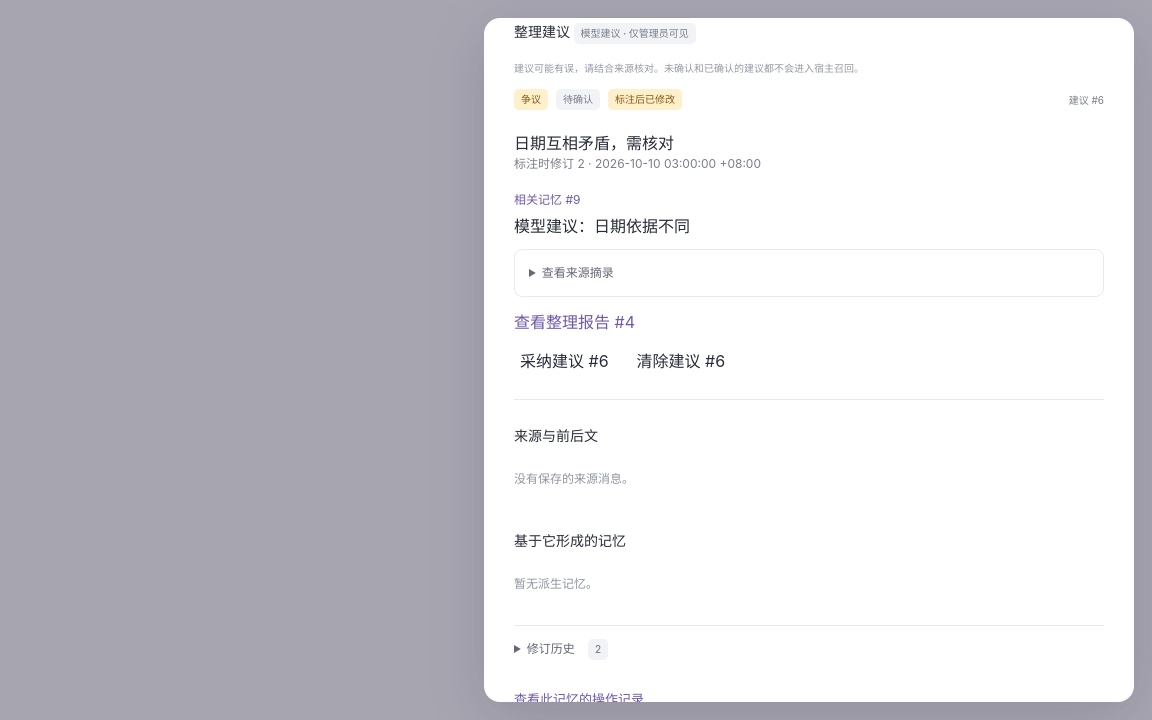
Test: 记忆建议采纳仅确认元数据，带当前修订及 CSRF；可清除且不改正文
The width and height of the screenshot is (1152, 720).
(page scrolled)
Check: the text "标注后已修改" is shown, box 608,89 -> 682,110
Click the button "采纳建议 #6": (564, 360) 514,347 -> 615,373
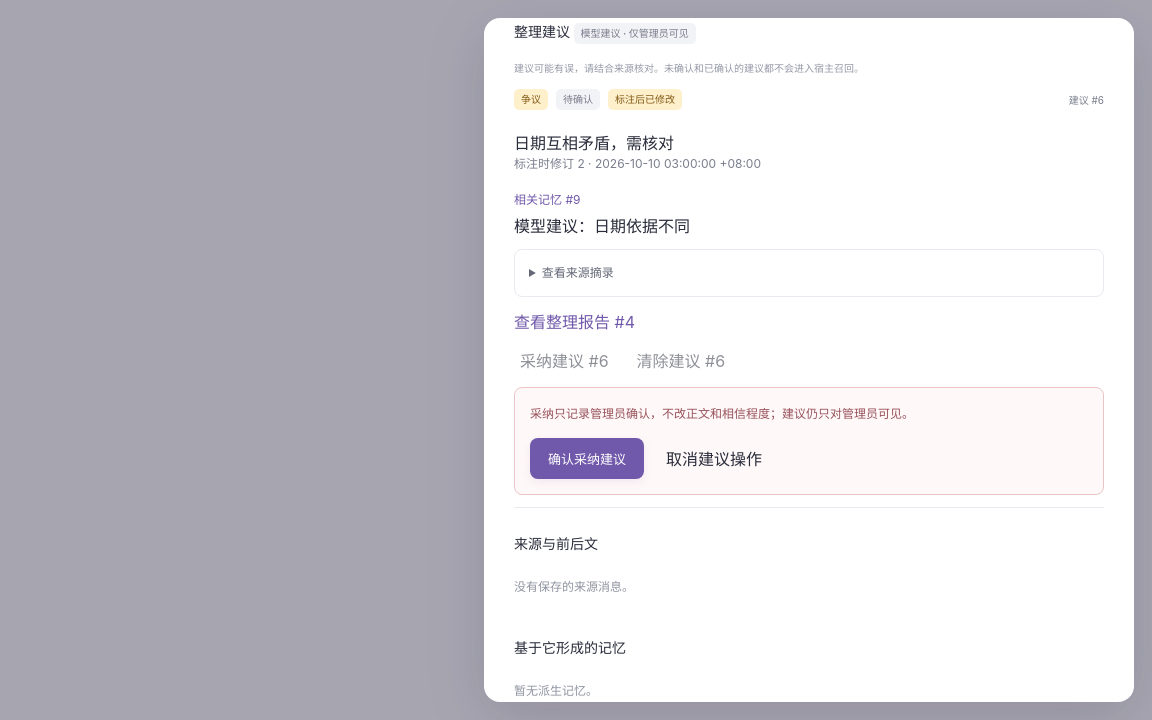
Check: the text "采纳只记录管理员确认，不改正文和相信程度；建议仍只对管理员可见。" is shown, box 530,406 -> 914,421
Click the button "确认采纳建议": (587, 458) 530,438 -> 644,479
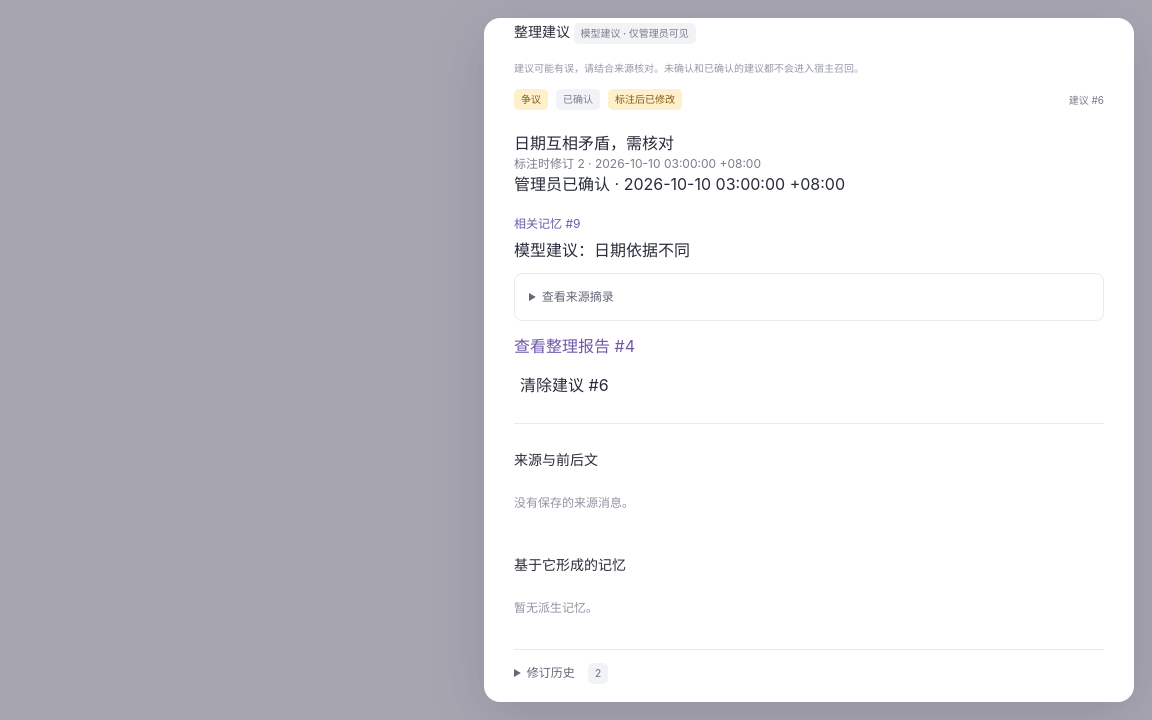
Check: the text "已确认" is shown, box 556,89 -> 600,110
Click the button "清除建议 #6": (564, 384) 514,371 -> 615,397
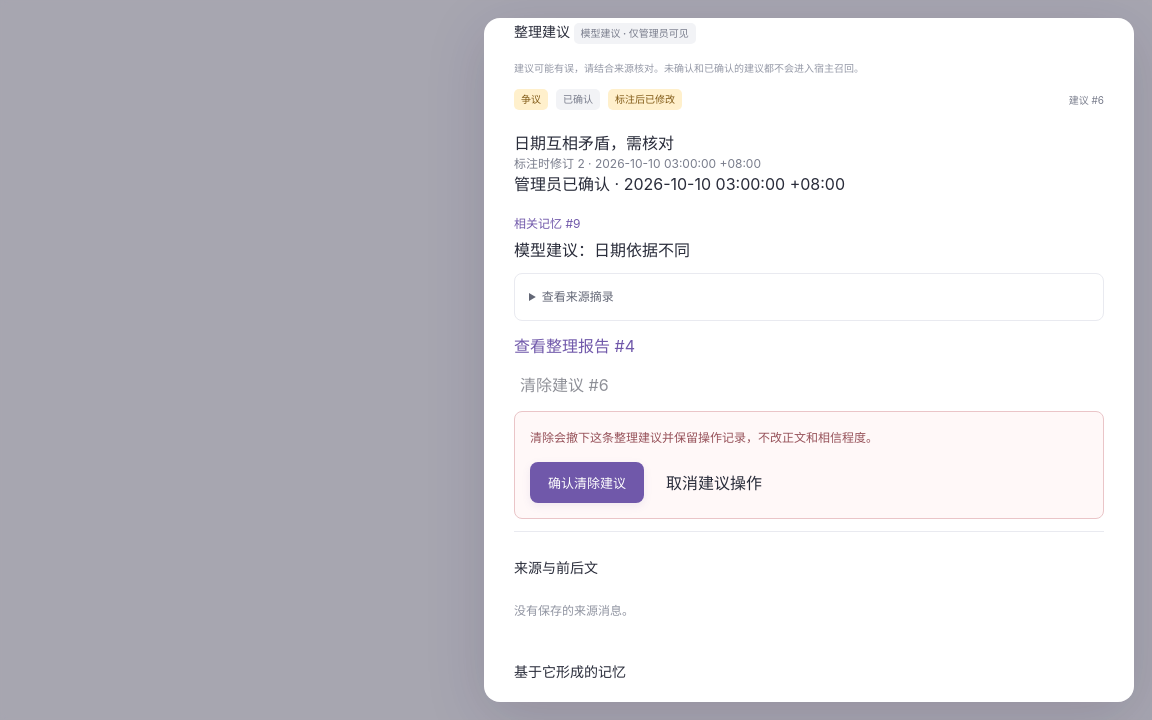
Click the button "确认清除建议": (587, 482) 530,462 -> 644,503
(page scrolled)
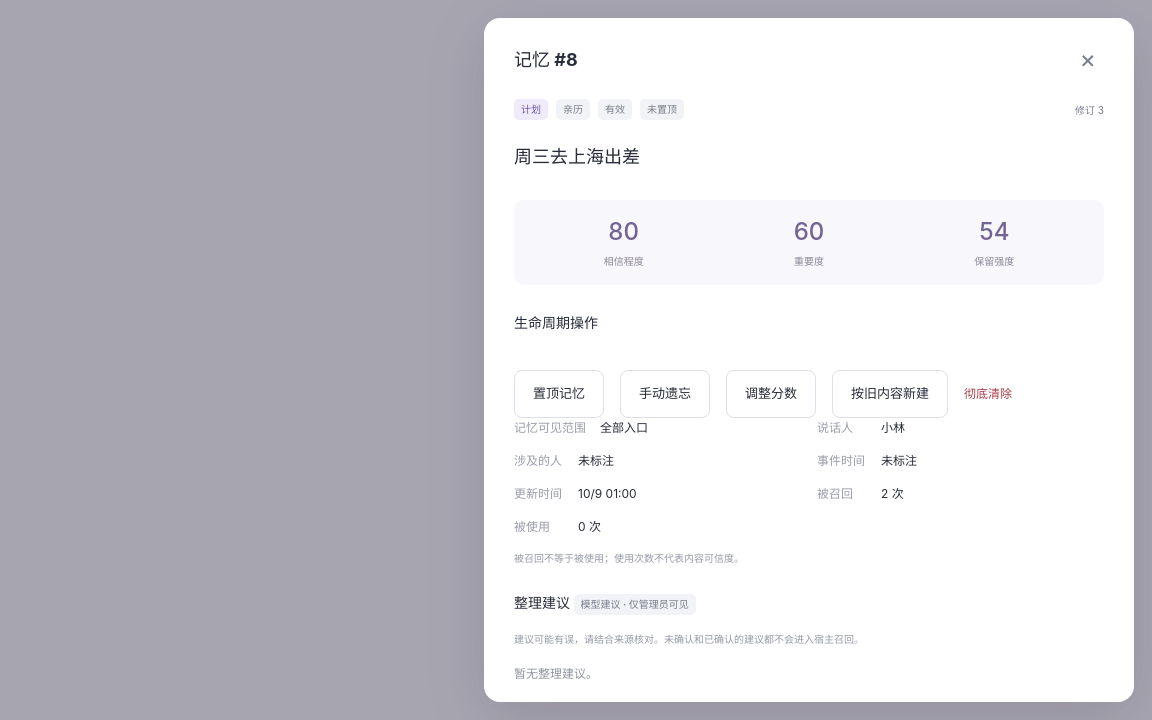
Check: the text "暂无整理建议。" is shown, box 514,666 -> 598,681
Check: the text "周三去上海出差" is shown, box 514,146 -> 640,167
